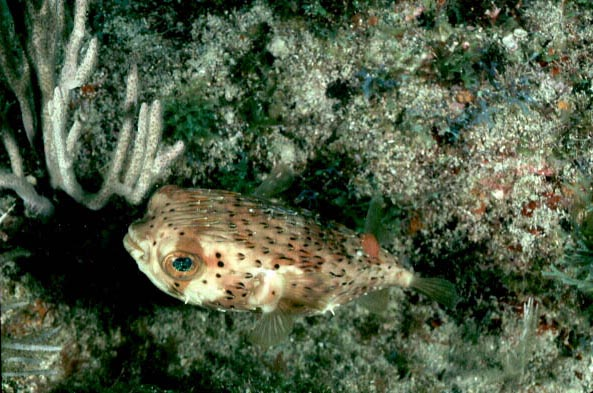Diodon_holocanthus: (113, 168, 462, 333)
